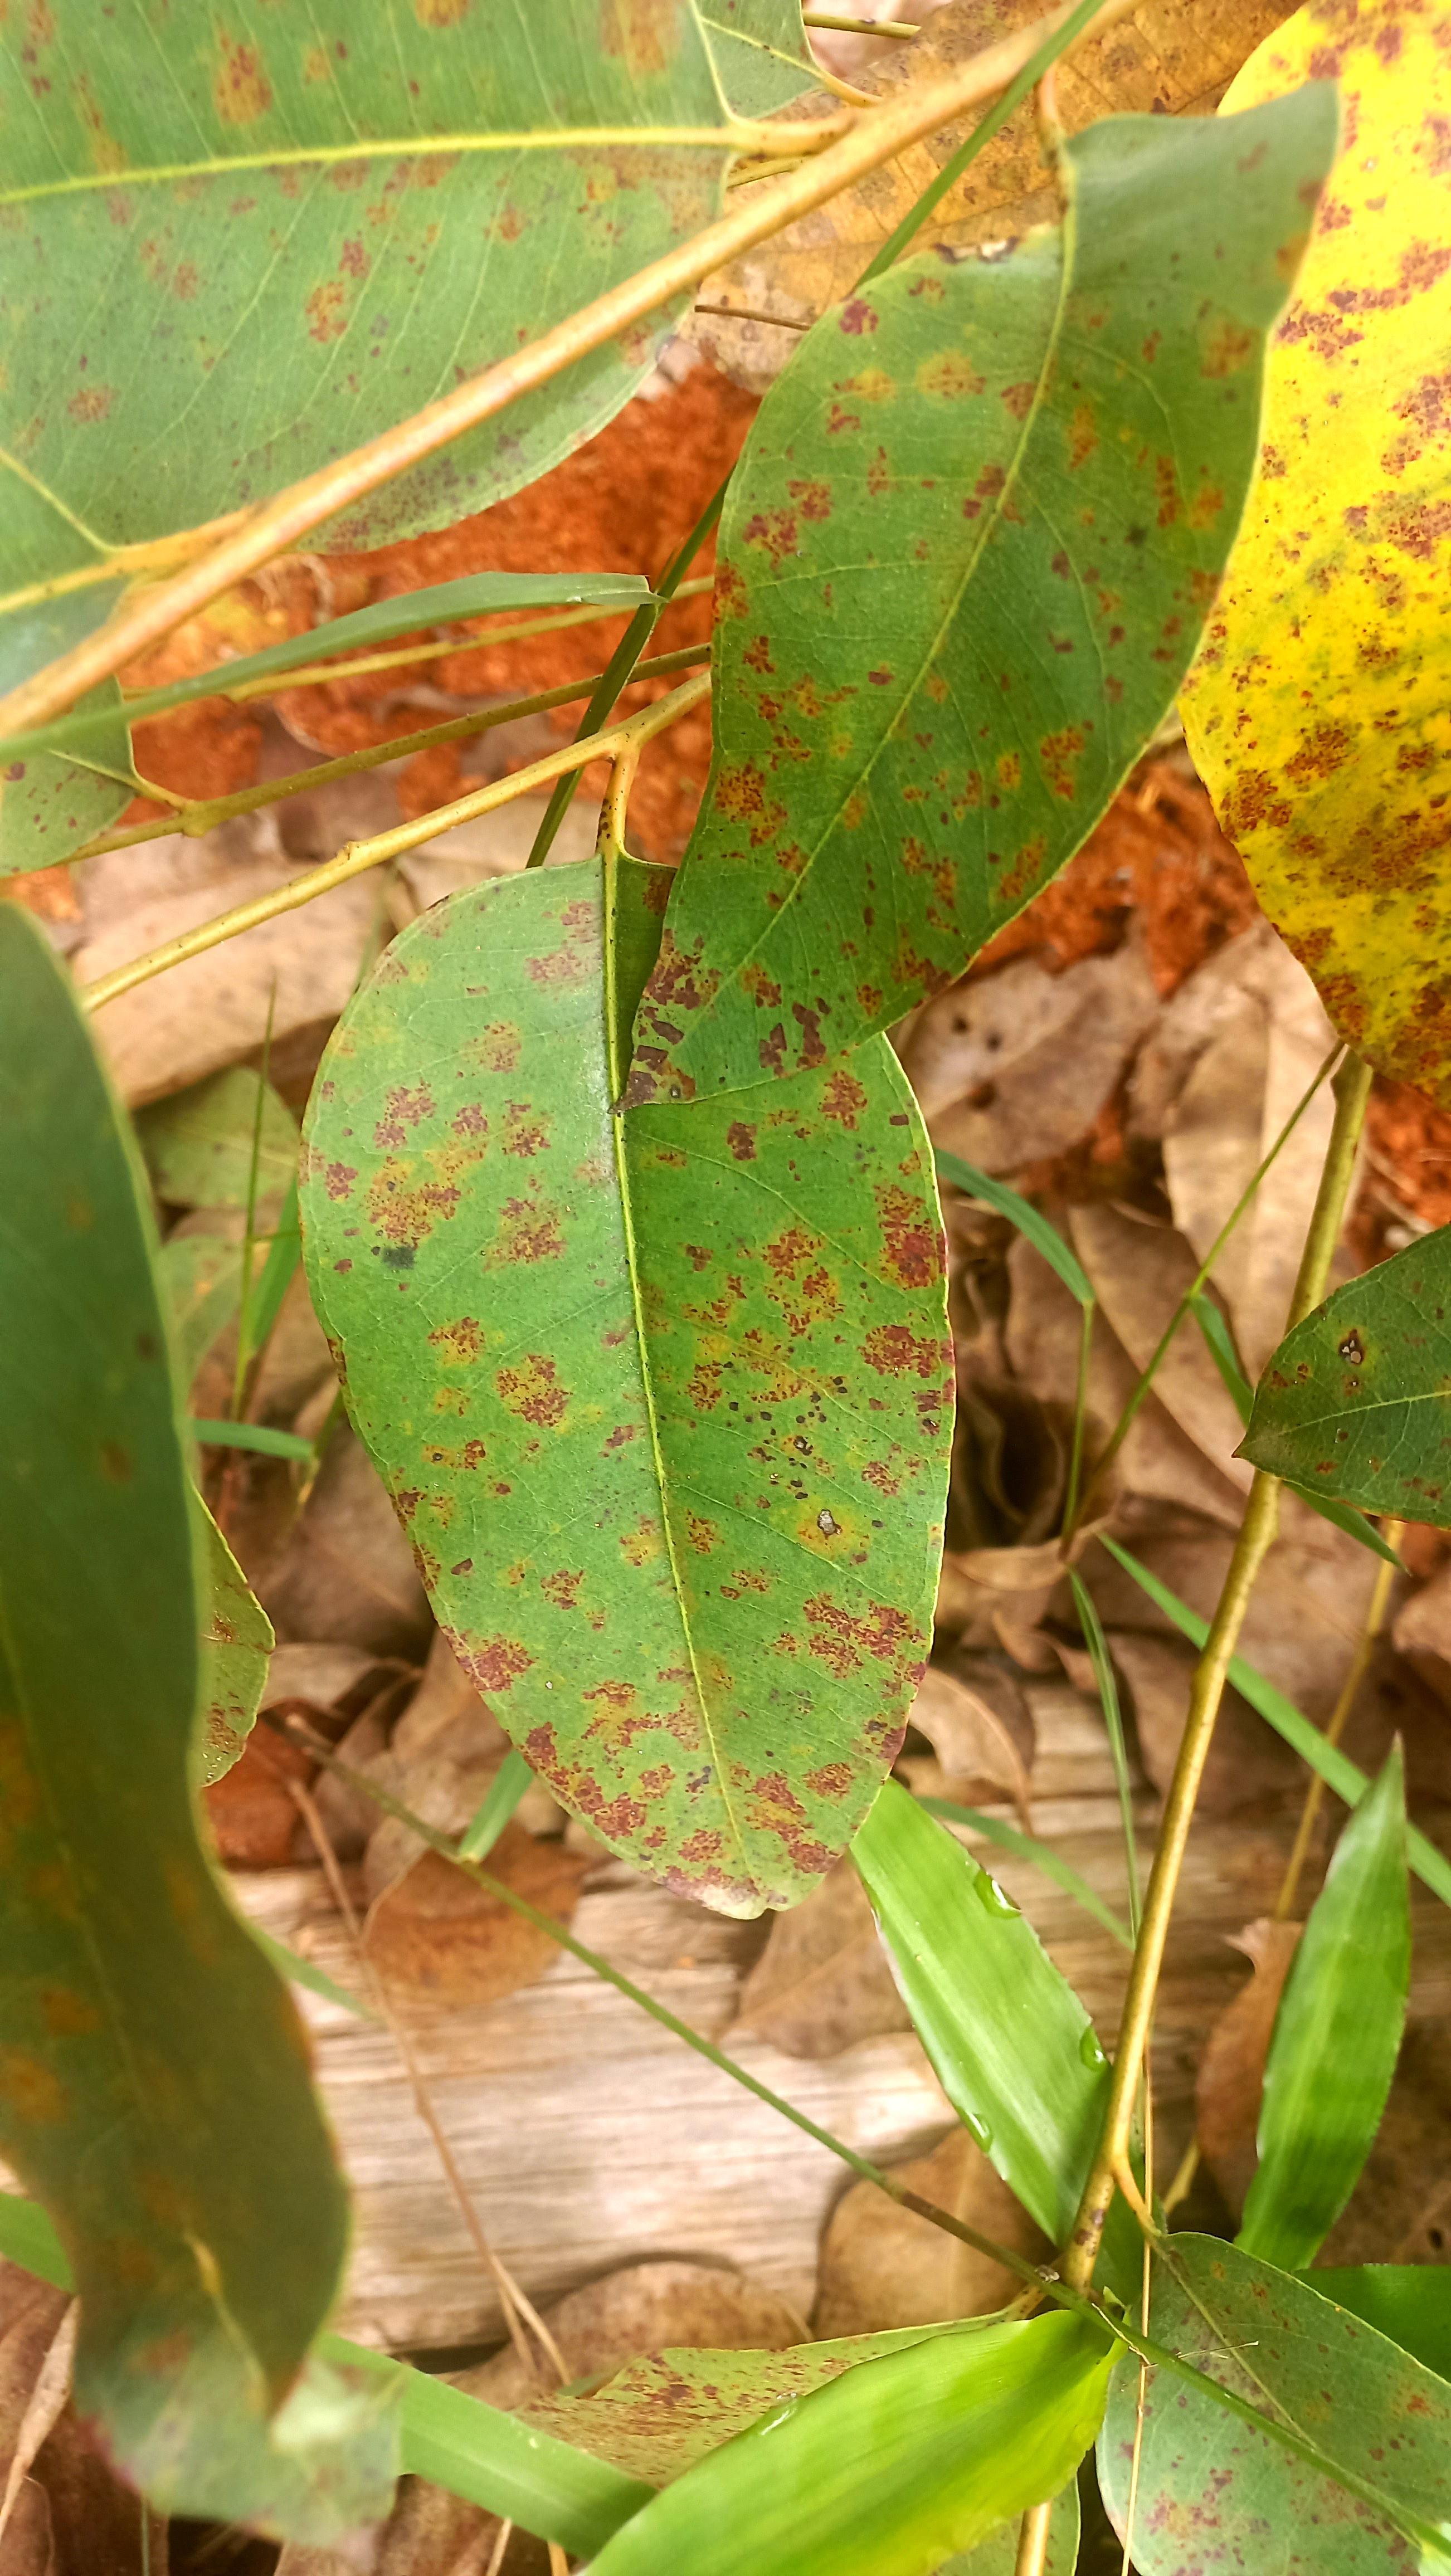Xanthomonas: (288, 863, 975, 1911), (658, 69, 1345, 1088), (0, 0, 828, 533), (1221, 2, 1451, 1201), (1099, 2229, 1451, 2576), (1233, 1235, 1451, 1530)
